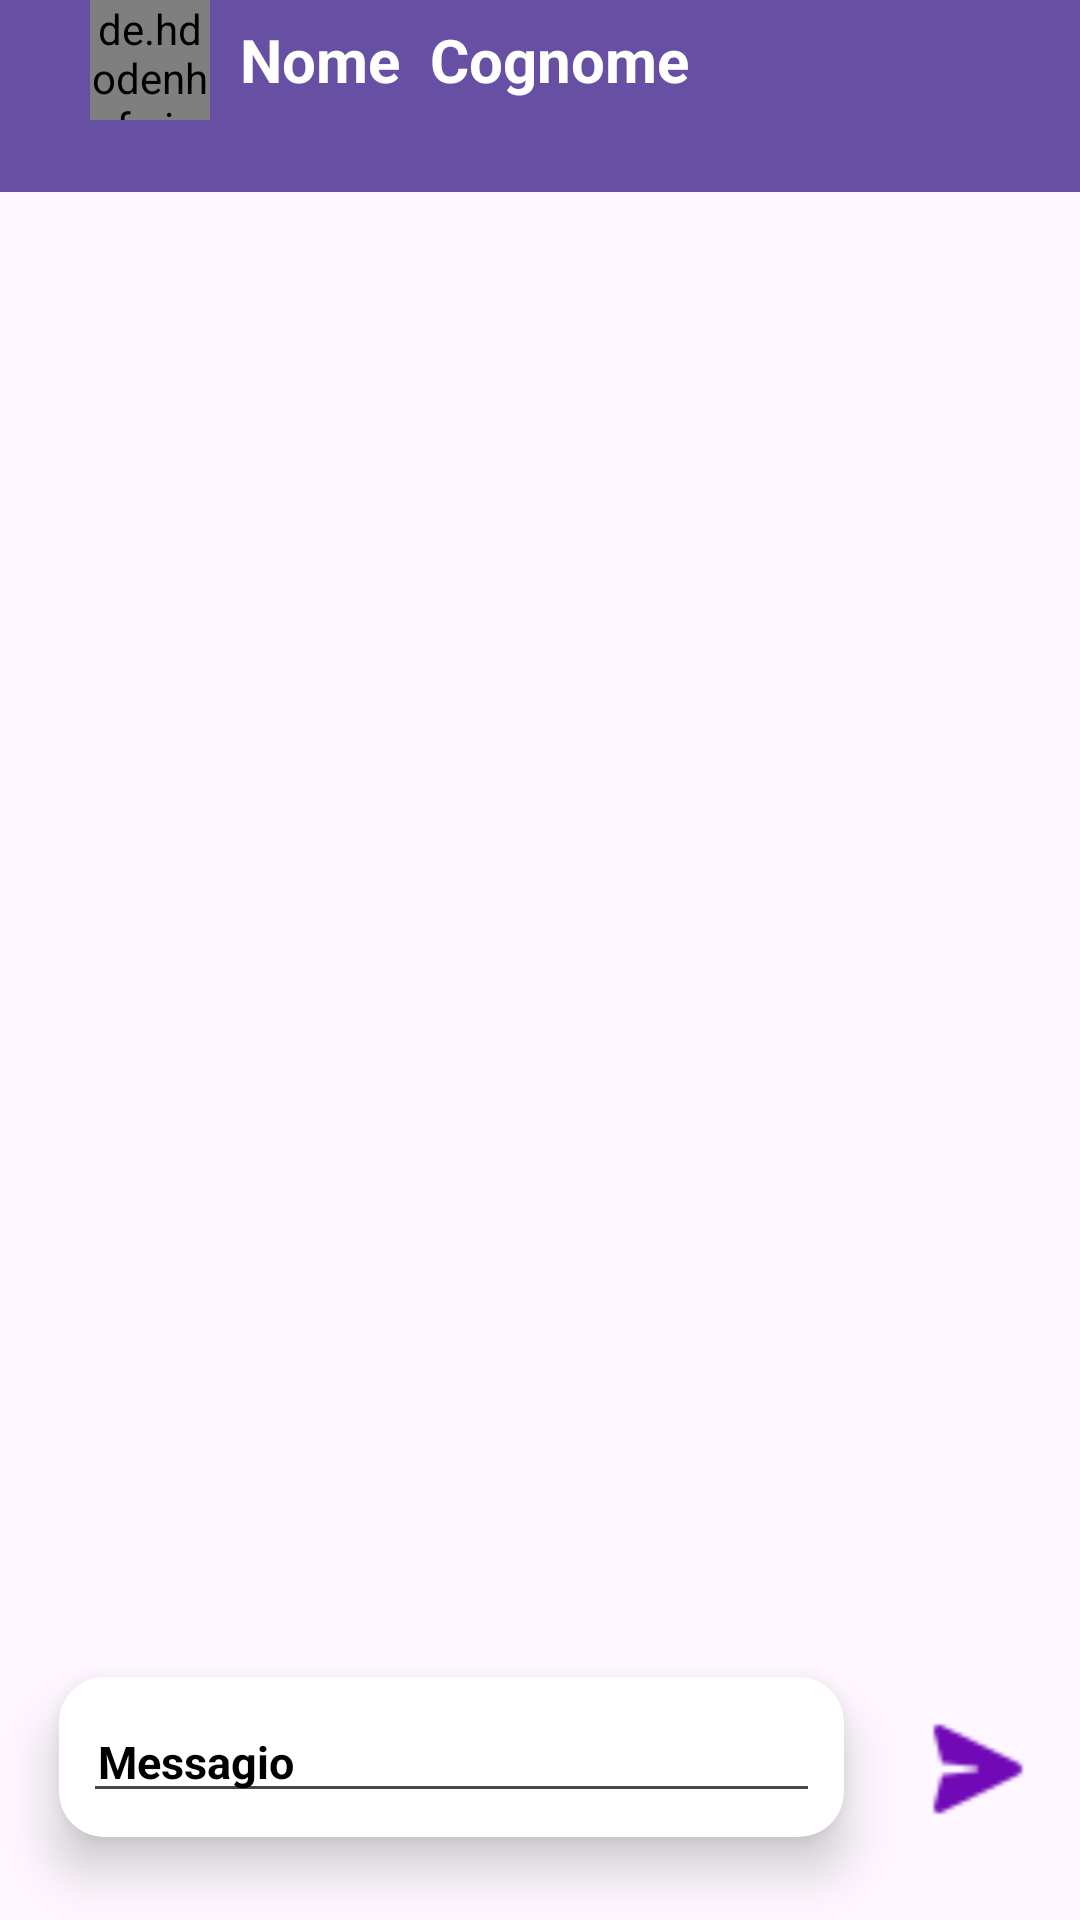

Icon bounding boxes for this 1080px x 1920px phone screenshot, format (x1, y1, x2, y2):
send: (932, 1723, 1024, 1815)
